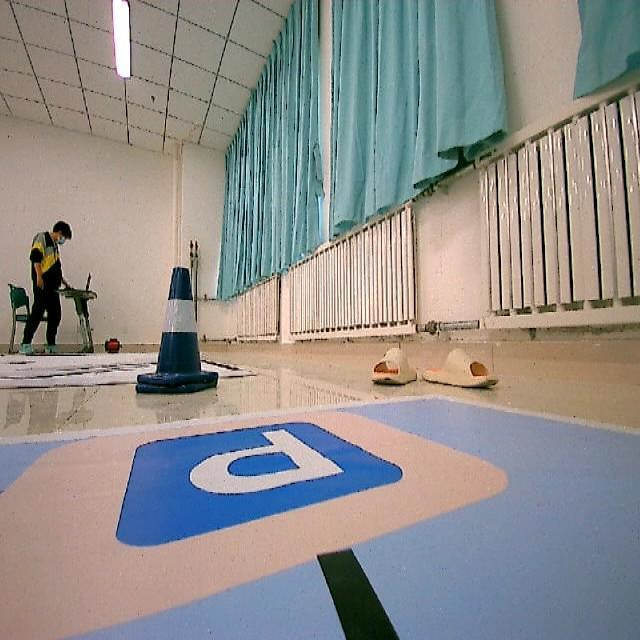obstacle: (130, 262, 222, 405)
